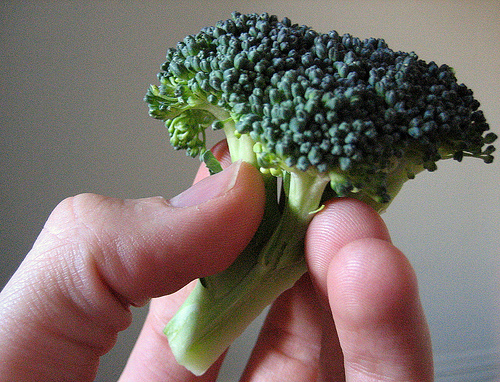broccoli: (137, 8, 499, 374)
